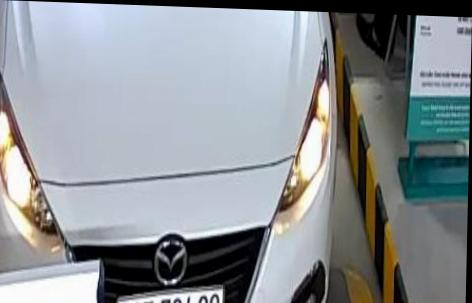License_Plate: (114, 284, 239, 303)
